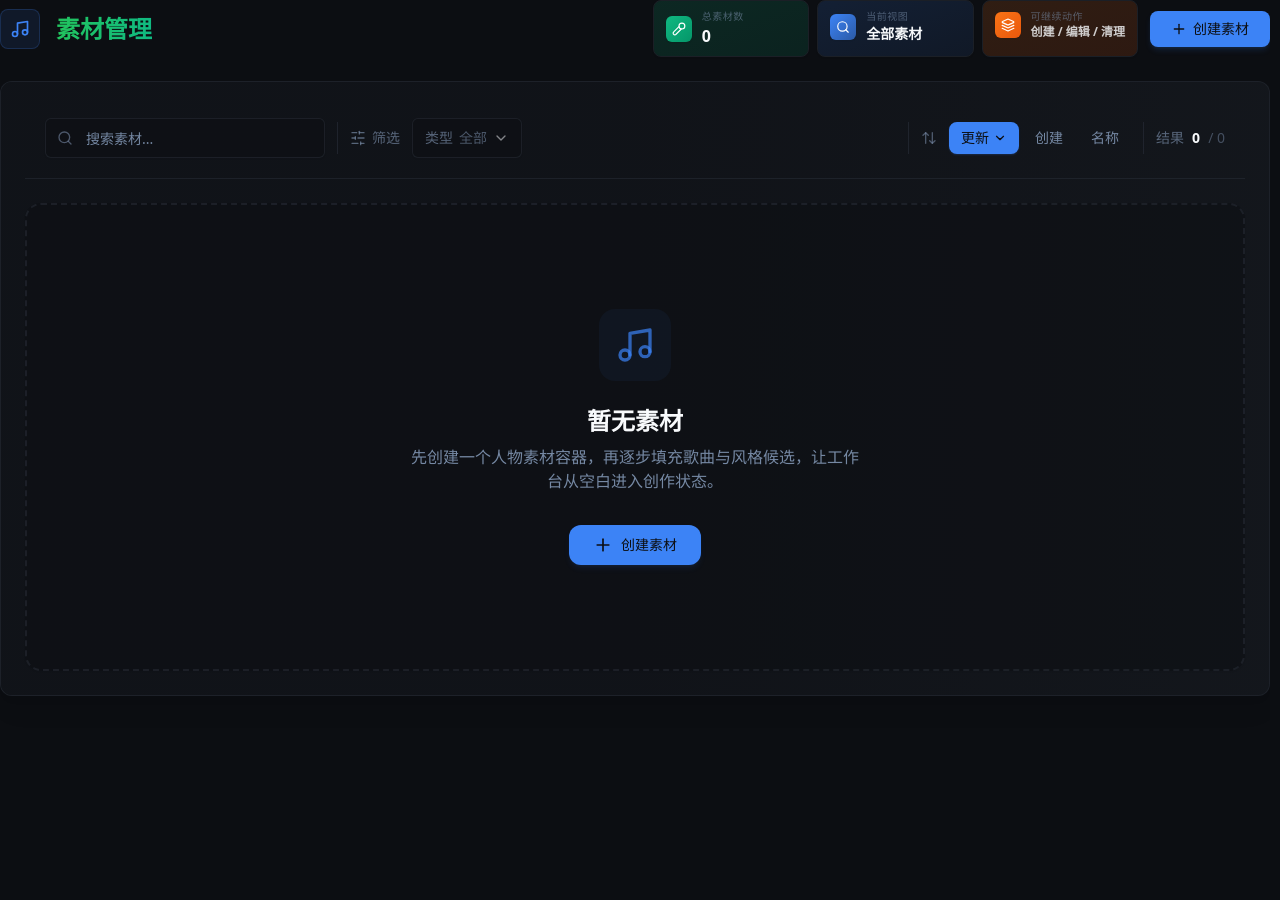
Test: MaterialManagementLayout › should use generic create dialog copy instead of artist-only copy
The width and height of the screenshot is (1280, 900).
Click the button "创建素材" next to "创建 / 编辑 / 清理".
click(1210, 28)  # box 1150,10 -> 1270,46
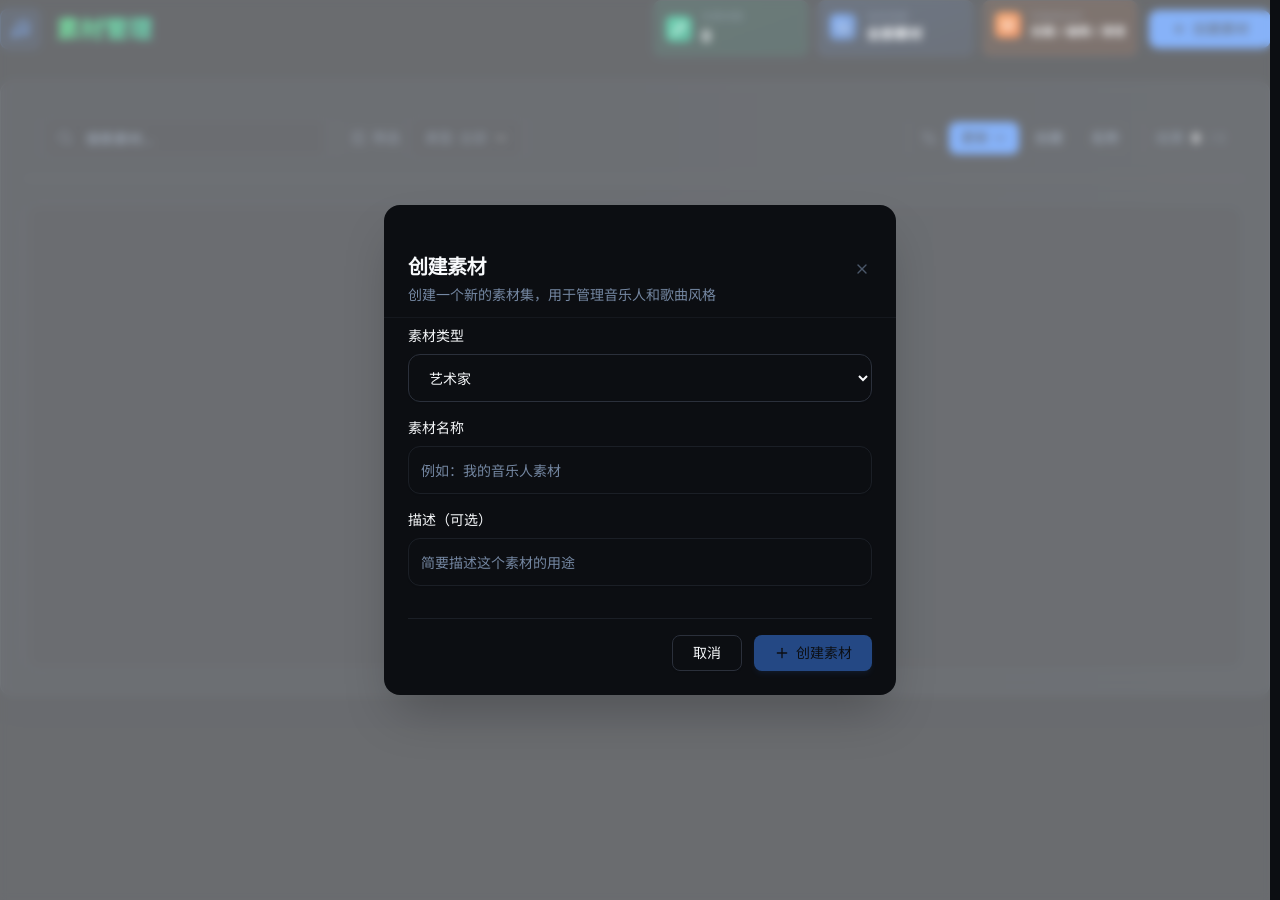
Check: the text "创建一个新的素材集，用于管理音乐人和歌曲风格" is shown, box 408,285 -> 716,304
